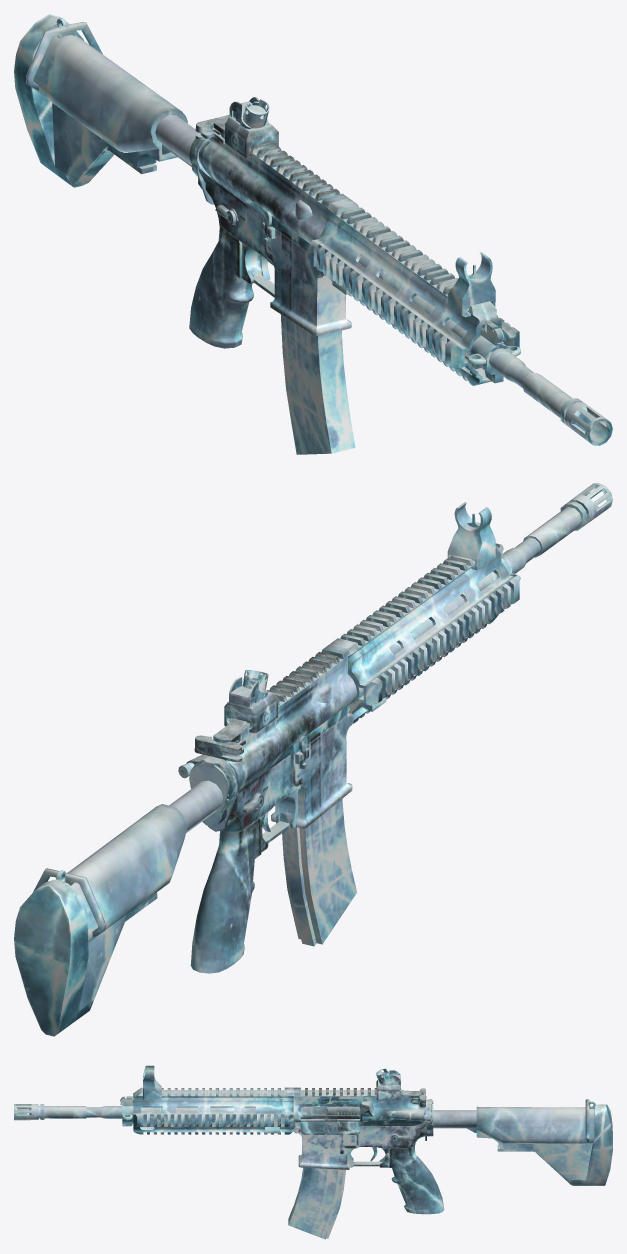
Rendered from gla.glb.
3 renders of one model, top to bottom at view 1: azimuth 30°, elevation 25°; view 2: azimuth 150°, elevation 25°; view 3: azimuth 270°, elevation 25°, orthographic. The views are drawn at different scales.
Parts seen in each view (by area): view 1: main_main_0_13, back_back_0_11, magazine_magazine_0_7, aim_aim_0_9; view 2: main_main_0_13, back_back_0_11, magazine_magazine_0_7, aim_aim_0_9; view 3: main_main_0_13, back_back_0_11, magazine_magazine_0_7, aim_aim_0_9.
Part boxes in pixels (bbox=[...]): main_main_0_13: bbox=[189, 115, 612, 445]; back_back_0_11: bbox=[14, 14, 214, 204]; magazine_magazine_0_7: bbox=[280, 314, 355, 454]; aim_aim_0_9: bbox=[225, 97, 495, 317]; main_main_0_13: bbox=[178, 483, 612, 973]; back_back_0_11: bbox=[14, 780, 236, 1036]; magazine_magazine_0_7: bbox=[282, 799, 357, 946]; aim_aim_0_9: bbox=[224, 502, 495, 733]; main_main_0_13: bbox=[14, 1087, 444, 1214]; back_back_0_11: bbox=[425, 1099, 612, 1185]; magazine_magazine_0_7: bbox=[288, 1167, 345, 1239]; aim_aim_0_9: bbox=[143, 1065, 400, 1099].
Size of the model in its own units: 0.0754 by 0.2895 by 0.9277.
Materials: 4 (4 with a texture image).
